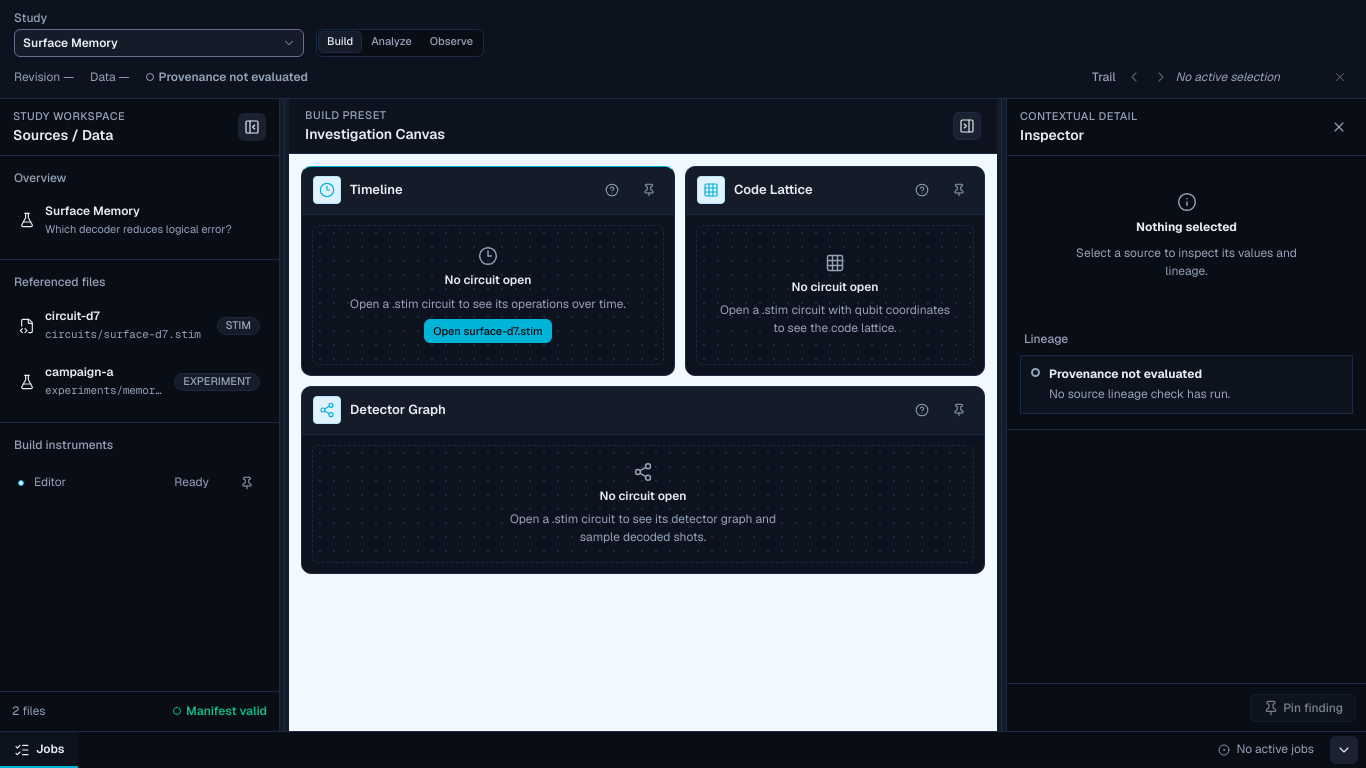
<QecWorkbench /> › keeps a pinned canvas instrument visible across preset changes and can unpin it
Click the radio button labelled "Analyze". click: [391, 42]
box: [363, 32, 420, 52]
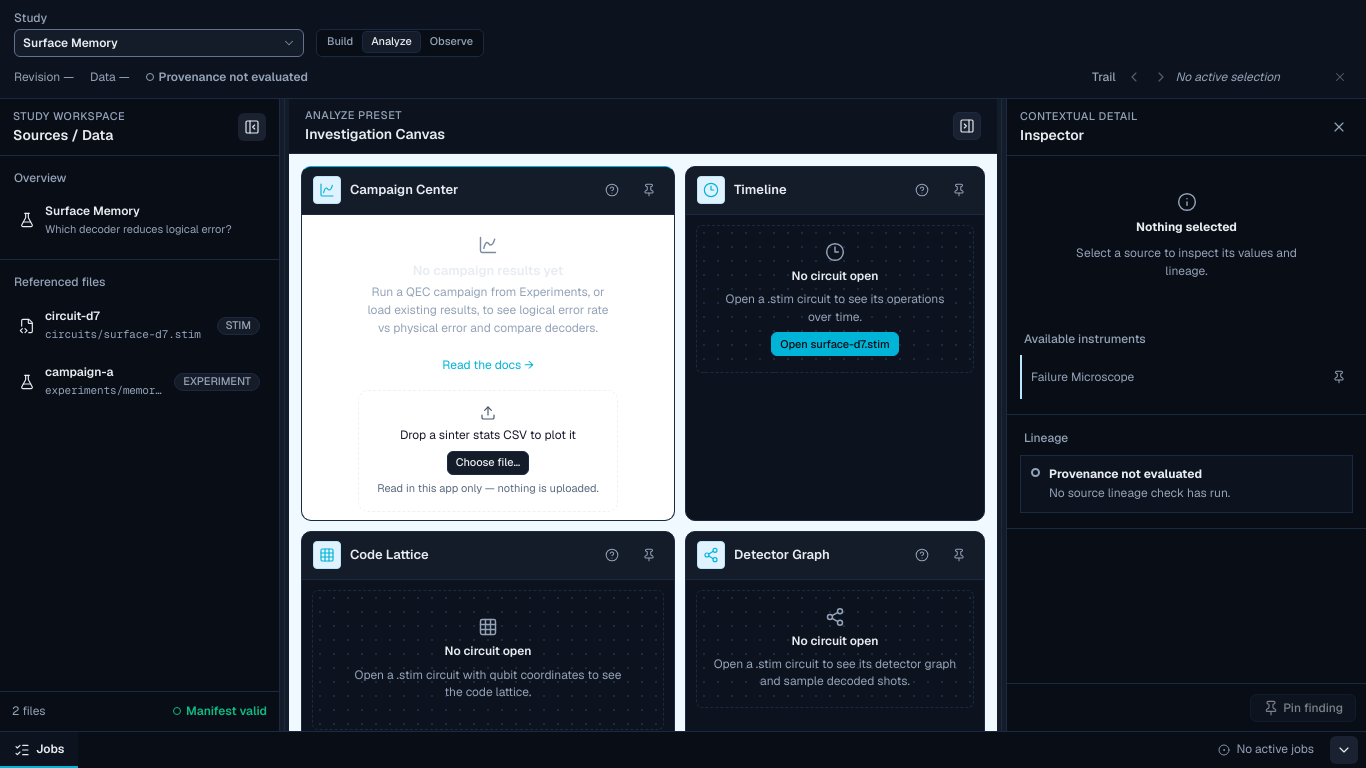
Click the button named "Pin Campaign Center". click: [649, 190]
box: [635, 176, 663, 204]
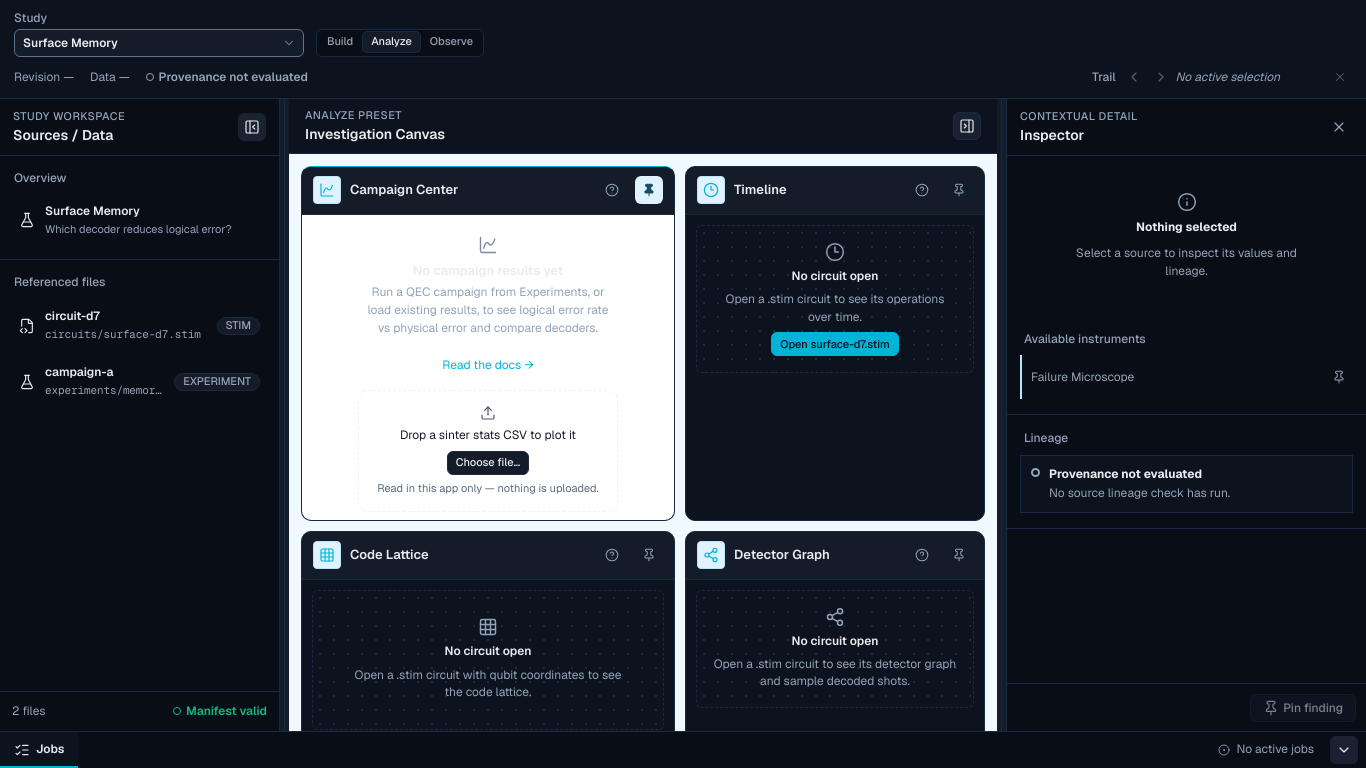
Click the radio button labelled "Build". click: [340, 42]
box: [319, 32, 361, 52]
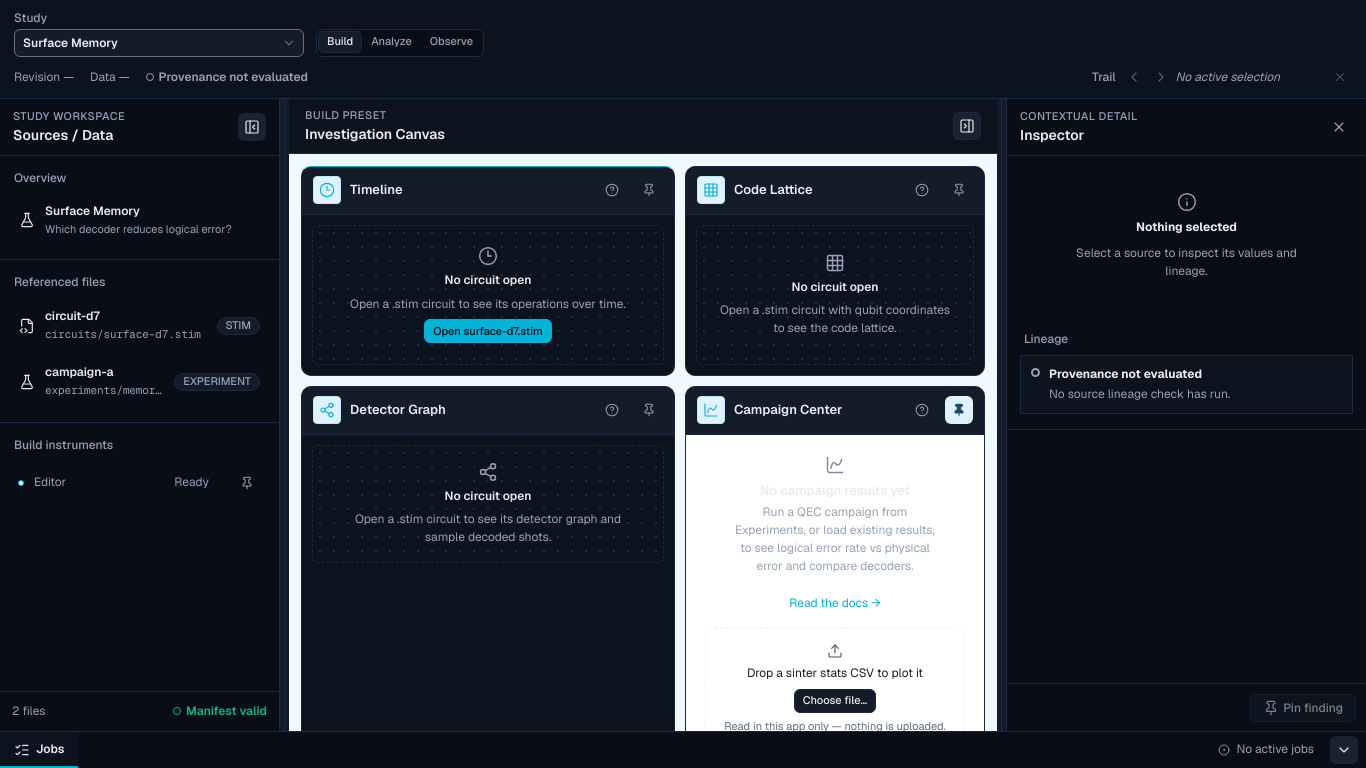
Result: the heading "Campaign Center" is shown at [734, 401, 842, 420]
Click the button named "Unpin Campaign Center". click: [959, 410]
box: [945, 396, 973, 424]
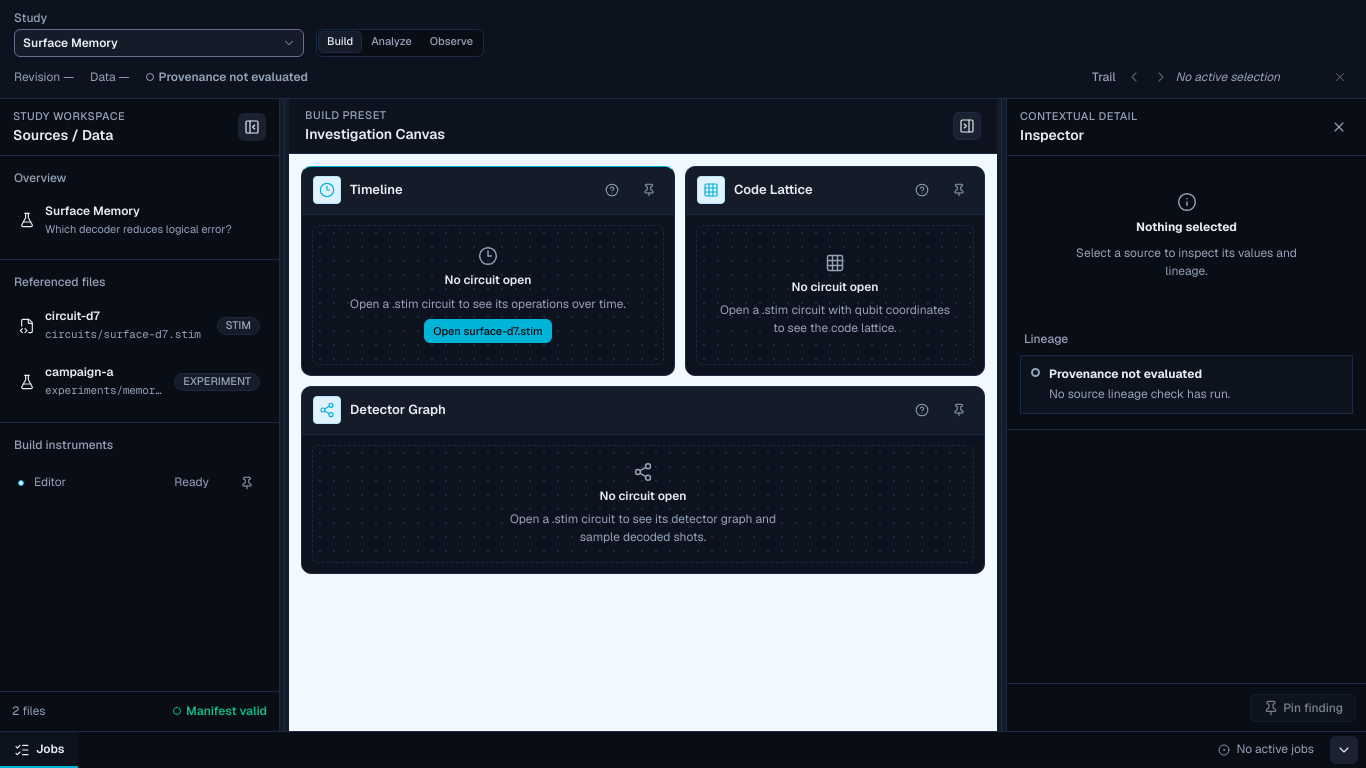
Result: the heading "Campaign Center" is gone
